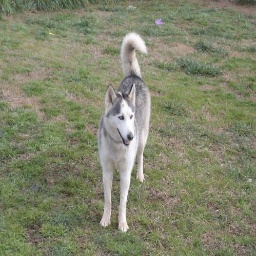dog: (97, 25, 153, 237)
